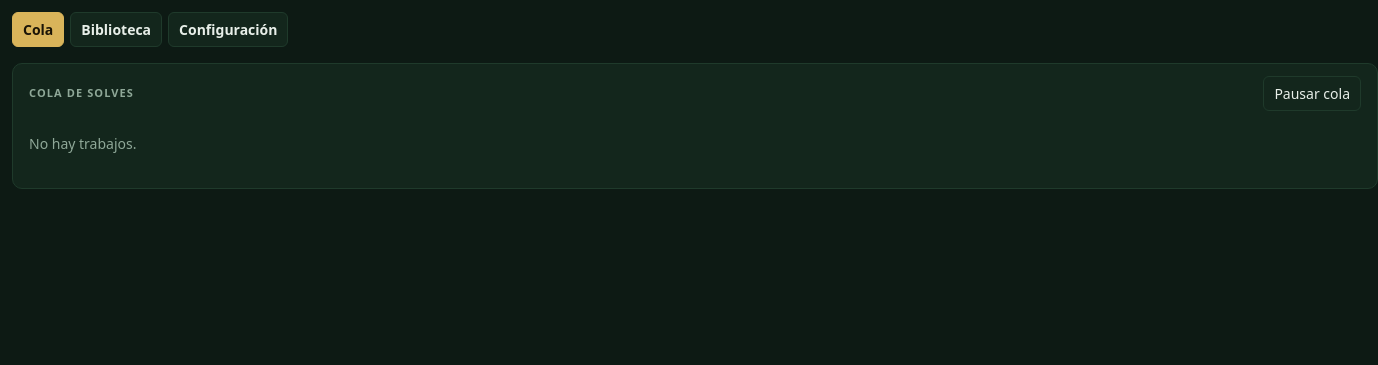
Test: SolverPage › shows configuration
Click the tab "Configuración": click(228, 30) top-left (168, 12), bottom-right (288, 47)
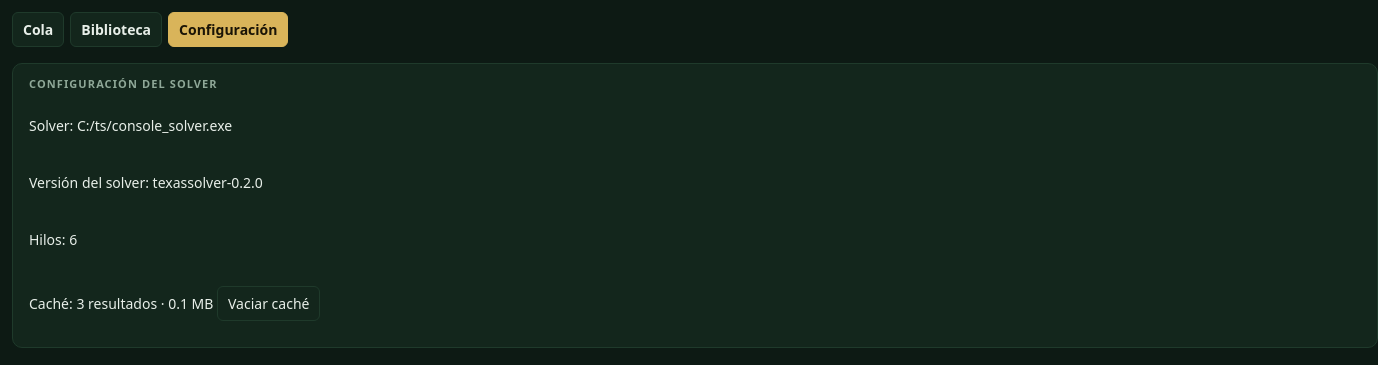
Expected: the text "Solver: C:/ts/console_solver.exe" is shown, top-left (29, 116), bottom-right (232, 134)
Expected: the text "Caché: 3 resultados · 0.1 MB Vaciar caché" is shown, top-left (29, 286), bottom-right (320, 320)
